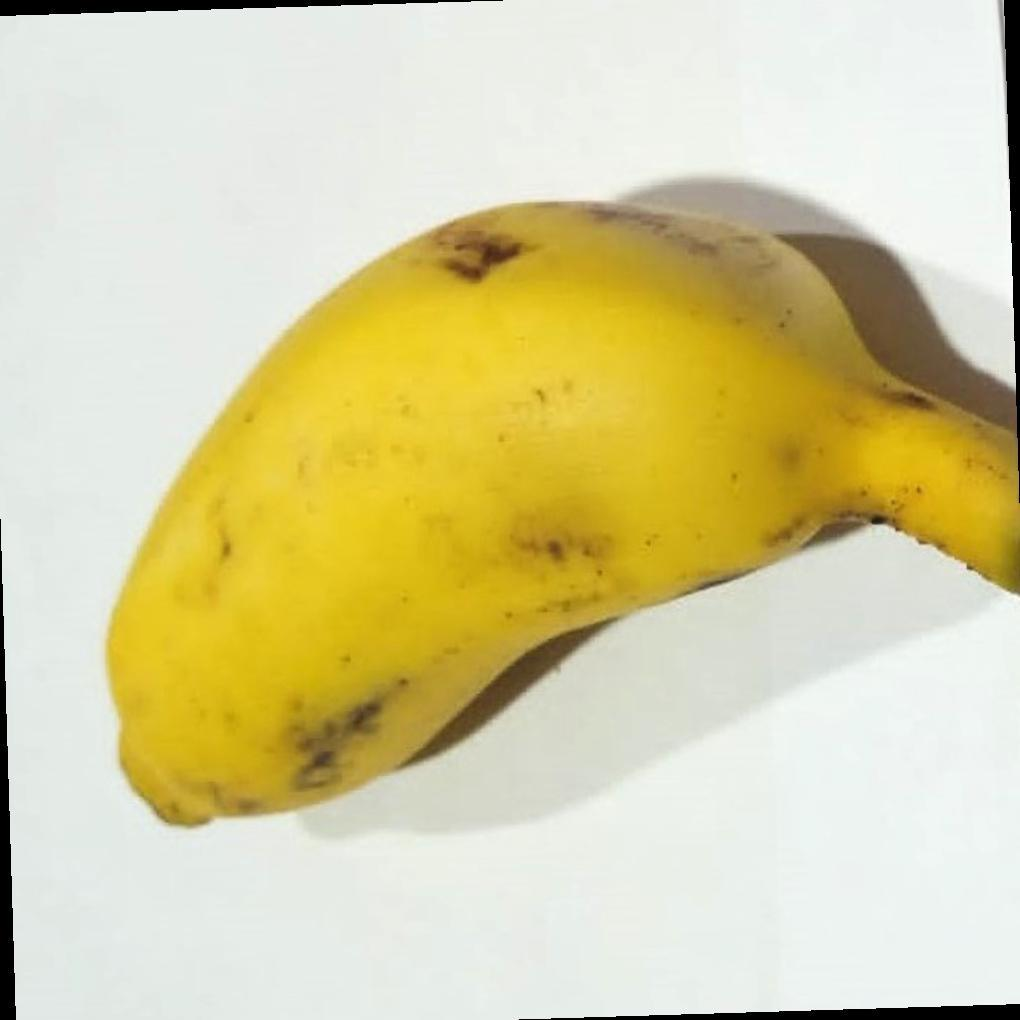Banana Ripe: (103, 181, 1020, 838)
